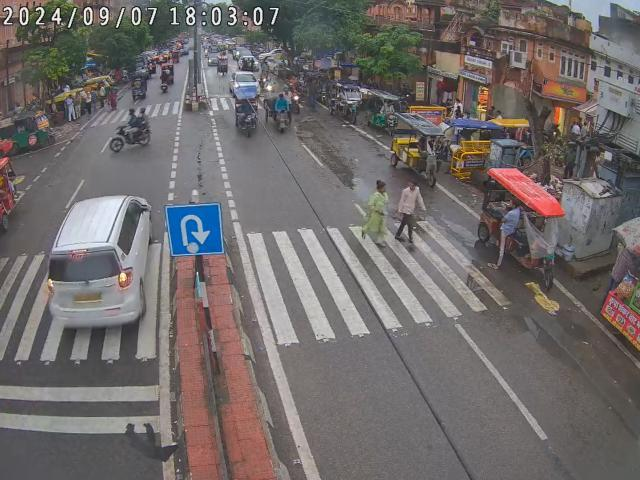auto: (476, 166, 570, 274), (389, 113, 448, 181), (0, 149, 14, 249), (329, 80, 362, 122), (234, 96, 262, 137)
car: (32, 193, 154, 403)
license_plate: (72, 290, 102, 304)
motorbike-rider: (114, 106, 153, 150), (271, 92, 293, 132)
person: (395, 180, 427, 242)
scooty-rider: (132, 81, 148, 103)
